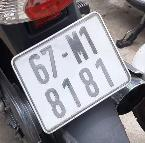1: (57, 74, 87, 112), (92, 55, 120, 91), (76, 22, 103, 59)
6: (24, 49, 52, 87)
7: (37, 41, 64, 81)
8: (40, 83, 71, 123), (74, 64, 105, 102)
M: (63, 28, 90, 67)
